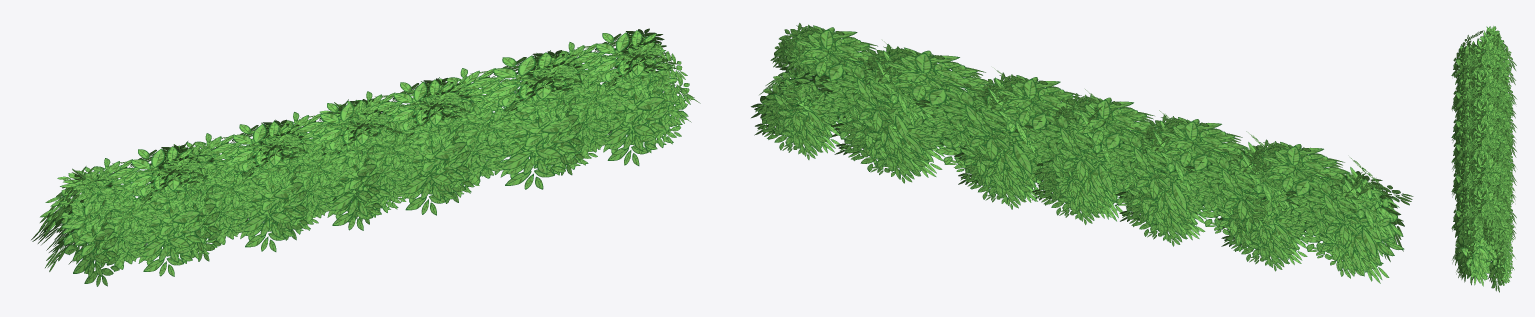
The model's file is Bush_Wall.fbx.
3 renders of one model, left to right at view 1: azimuth 30°, elevation 25°; view 2: azimuth 150°, elevation 25°; view 3: azimuth 270°, elevation 25°, orthographic. The views are drawn at different scales.
Visible parts, largest first — view 1: Tree_17_Leaf102; view 2: Tree_17_Leaf102; view 3: Tree_17_Leaf102.
Boxes of the visible parts, x1,y1,x2,y2 form: Tree_17_Leaf102: [31, 28, 700, 286]; Tree_17_Leaf102: [751, 23, 1413, 283]; Tree_17_Leaf102: [1451, 26, 1516, 292].
Size of the model in its own units: 16.8 by 3.34 by 2.35.
